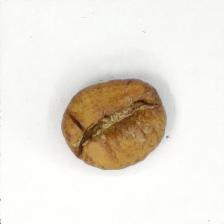NG: (85, 91, 155, 152)
